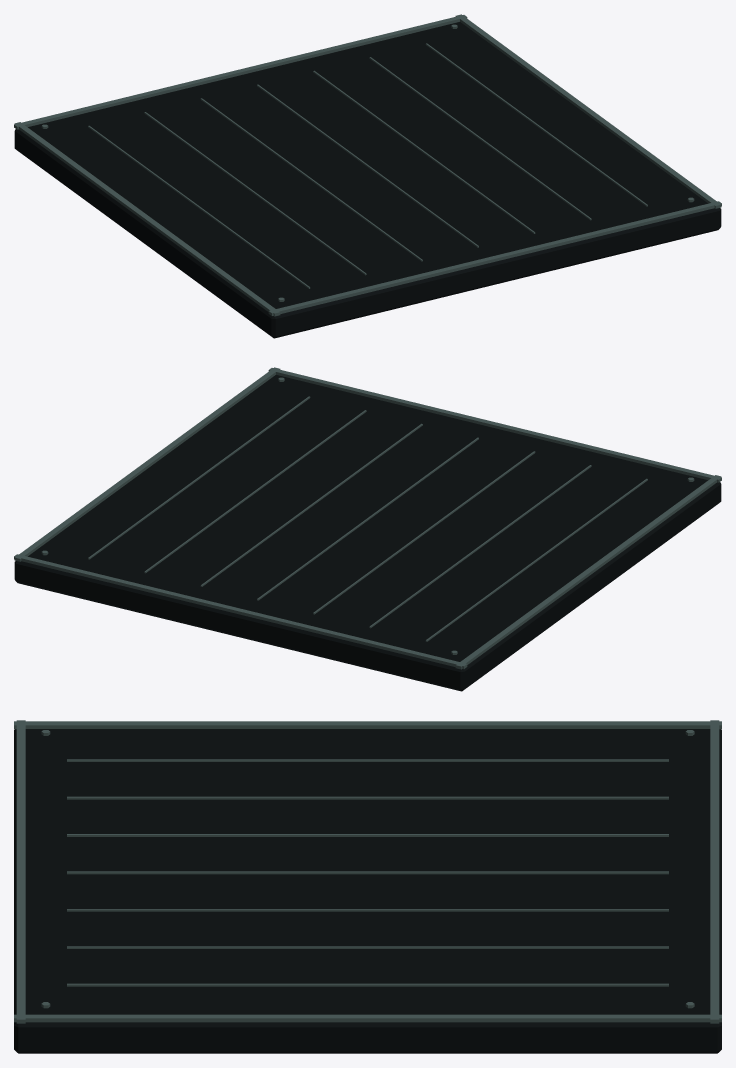
The model's file is SM_MP_Deck_Tile.fbx.
3 views of the same model, one above another, from view 1: azimuth 30°, elevation 25°; view 2: azimuth 150°, elevation 25°; view 3: azimuth 270°, elevation 25° (orthographic). The views are drawn at different scales.
Visible parts, largest first — view 1: SM_MP_Deck_Tile; view 2: SM_MP_Deck_Tile; view 3: SM_MP_Deck_Tile.
Boxes of the visible parts, x1,y1,x2,y2 form: SM_MP_Deck_Tile: (14,14,721,338); SM_MP_Deck_Tile: (14,367,721,691); SM_MP_Deck_Tile: (14,720,721,1053).
Bounding box in the file's own units: 400 × 400 × 23.9.
Materials: 1 (1 with a texture image).
